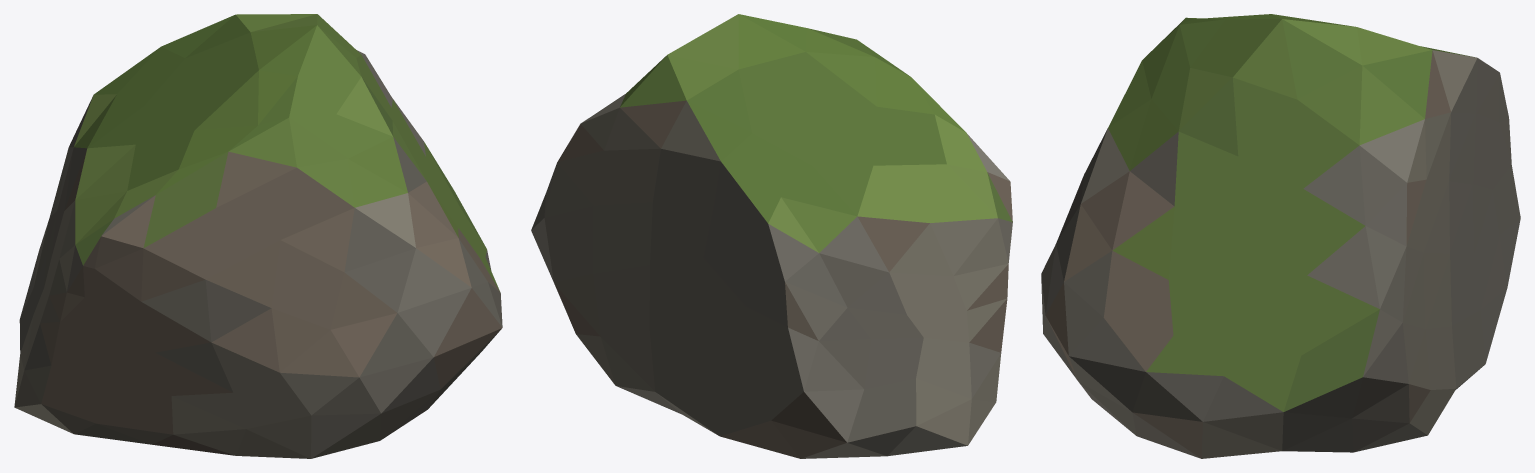
File: rock_mossy.glb
3 views of the same model, side by side, from view 1: azimuth 30°, elevation 25°; view 2: azimuth 150°, elevation 25°; view 3: azimuth 270°, elevation 25° (orthographic). The views are drawn at different scales.
Parts seen in each view (by area): view 1: orchard_rock_mossy_Stone; view 2: orchard_rock_mossy_Stone; view 3: orchard_rock_mossy_Stone.
Boxes of the visible parts, box(x1,y1,x2,y2) form: orchard_rock_mossy_Stone: box(14, 14, 502, 458); orchard_rock_mossy_Stone: box(531, 14, 1012, 458); orchard_rock_mossy_Stone: box(1041, 14, 1520, 458).
Size of the model in its own units: 1.22 by 0.932 by 1.02.
